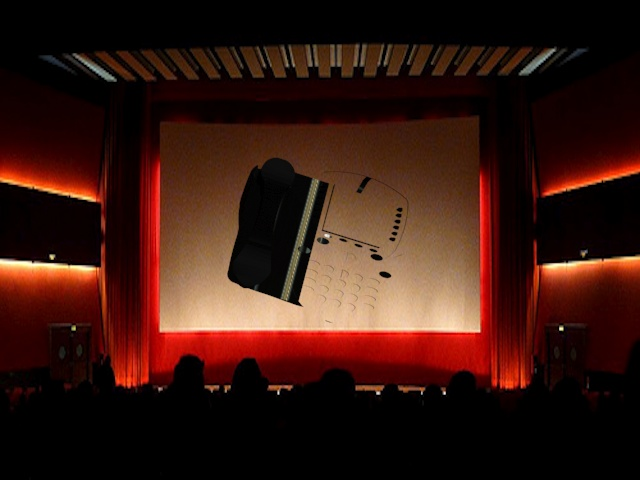phone: (225, 153, 416, 328)
